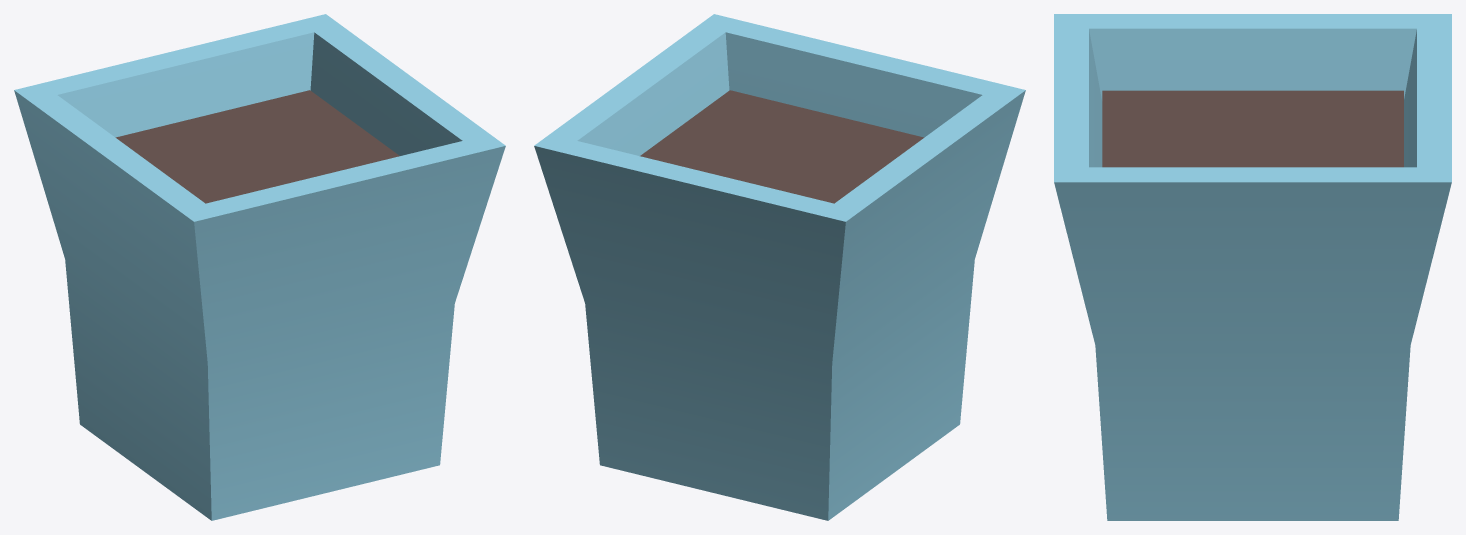
The model's file is plant01_01.gltf.
3 renders of one model, left to right at view 1: azimuth 30°, elevation 25°; view 2: azimuth 150°, elevation 25°; view 3: azimuth 270°, elevation 25°, orthographic. The views are drawn at different scales.
Parts seen in each view (by area): view 1: pot.001, dirt; view 2: pot.001, dirt; view 3: pot.001, dirt.
Part boxes in pixels (<box>): pot.001: <box>14,14,505,520</box>; dirt: <box>115,90,399,203</box>; pot.001: <box>534,14,1025,520</box>; dirt: <box>640,90,923,203</box>; pot.001: <box>1054,14,1451,520</box>; dirt: <box>1102,90,1403,167</box>.
Bounding box in the file's own units: 0.0137 × 0.0137 × 0.0137.
Materials: 1 (1 with a texture image).
